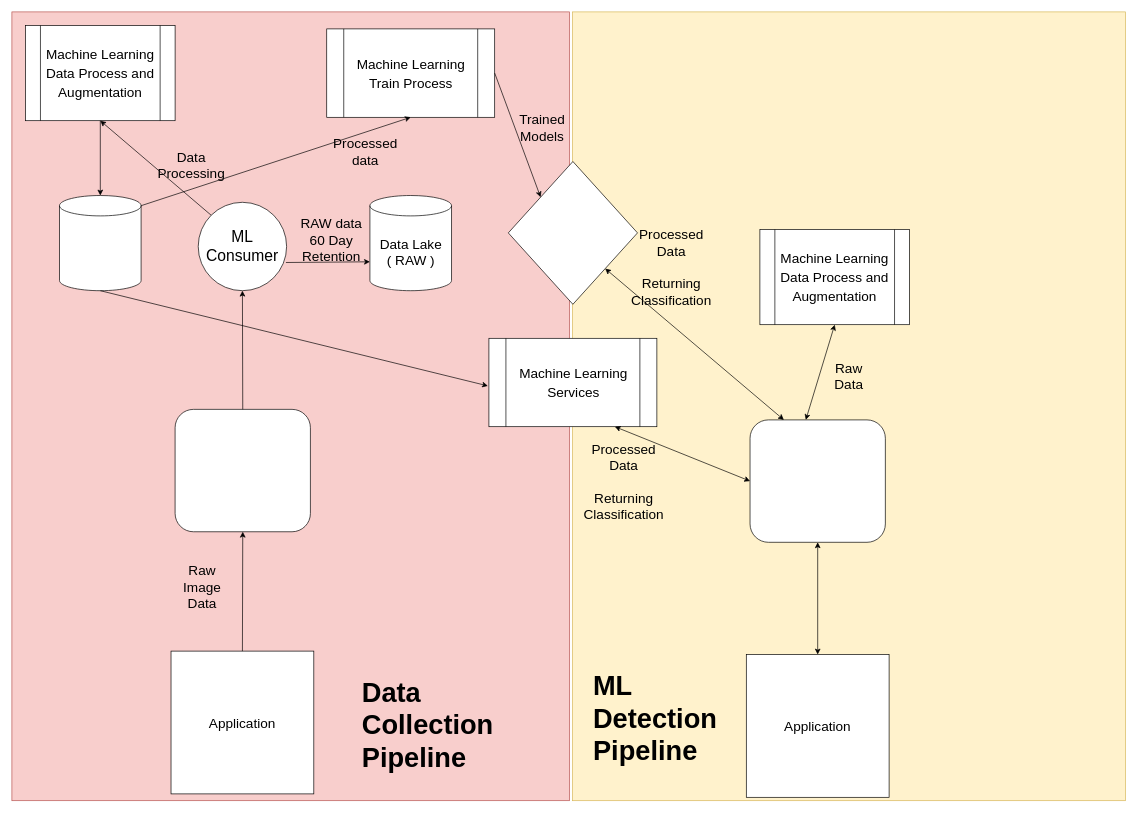
The diagram is 1138 pixels wide and 813 high, and some of its shapes have lost their labels. The centre of each missing label's shape, as x and y in pixels:
"Data Warehouse" goes at (x=100, y=243).
"Kafka Broker" goes at (x=242, y=470).
"Redis" goes at (x=817, y=480).
"Trained Models EFS" goes at (x=573, y=232).
